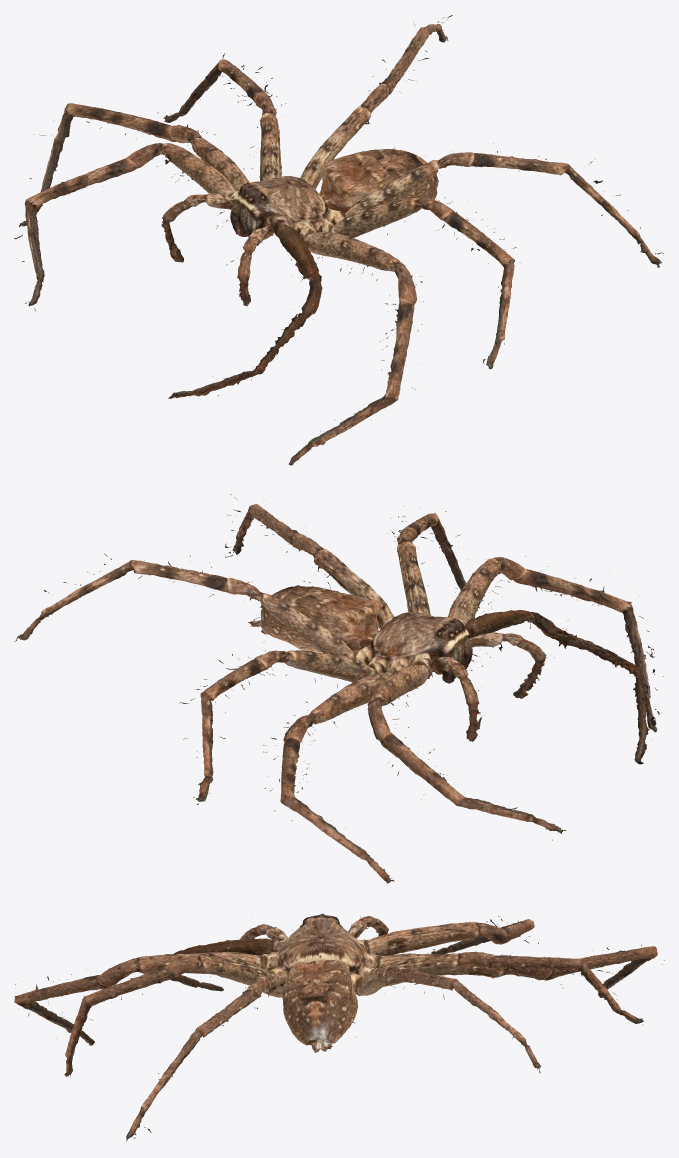
Rendered from huntsman-spider.glb.
The picture shows the model from 3 angles, top to bottom: view 1: azimuth 30°, elevation 25°; view 2: azimuth 150°, elevation 25°; view 3: azimuth 270°, elevation 25°; orthographic projection. The views are drawn at different scales.
Visible parts, largest first — view 1: huntsman; view 2: huntsman; view 3: huntsman.
Part boxes in pixels (x1,y1,x2,y2): huntsman: [14, 15, 663, 465]; huntsman: [14, 494, 663, 883]; huntsman: [14, 913, 664, 1141].
Size of the model in its own units: 4.28 by 1.98 by 5.12.
Materials: 1 (1 with a texture image).
